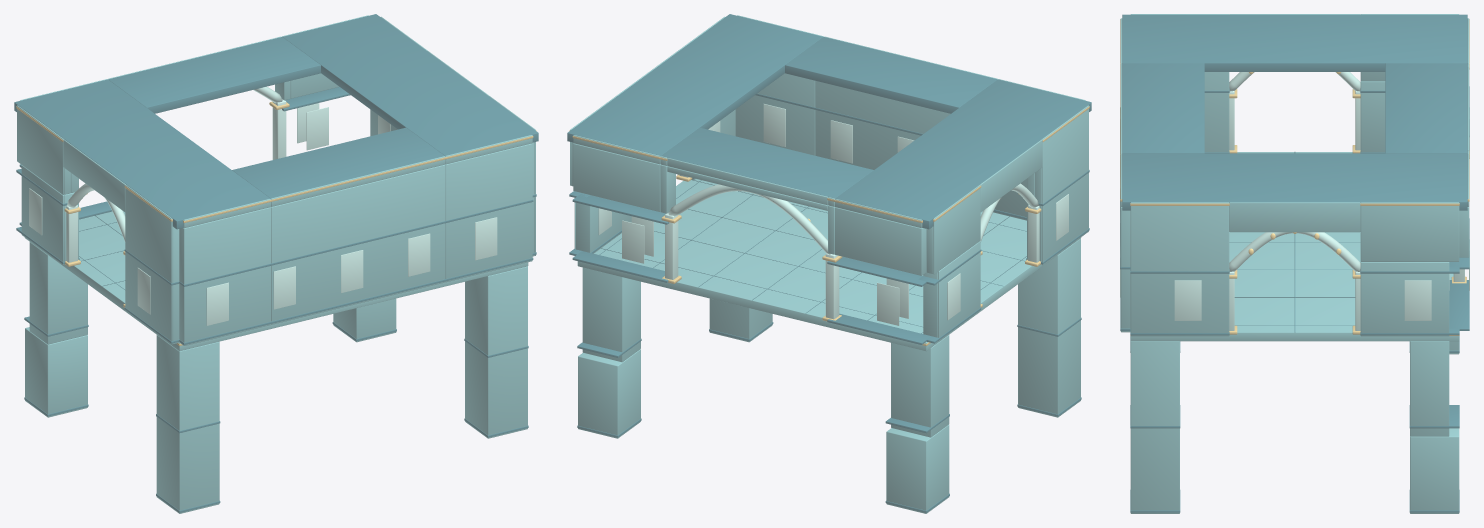
File: atlantis_district_observatory.glb
3 views of the same model, side by side, from view 1: azimuth 30°, elevation 25°; view 2: azimuth 150°, elevation 25°; view 3: azimuth 270°, elevation 25° (orthographic). The views are drawn at different scales.
Parts seen in each view (by area): view 1: atlantis_district_observatory_surface; view 2: atlantis_district_observatory_surface; view 3: atlantis_district_observatory_surface.
Part boxes in pixels (bbox=[...]): atlantis_district_observatory_surface: bbox=[14, 14, 538, 513]; atlantis_district_observatory_surface: bbox=[567, 14, 1091, 513]; atlantis_district_observatory_surface: bbox=[1120, 14, 1469, 513].
Bounding box in the file's own units: 27.28 × 21.2 × 21.28.
